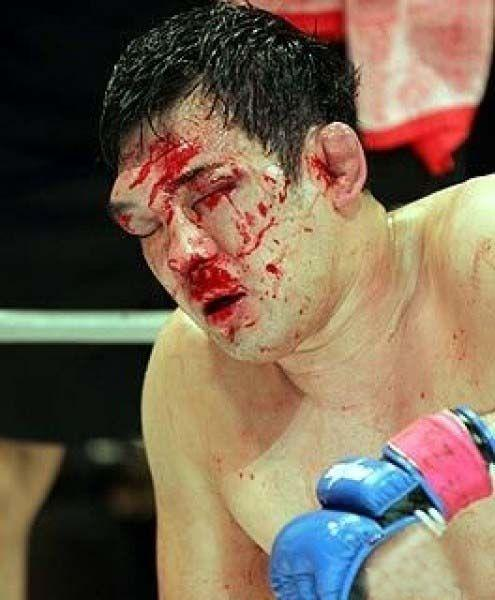Fire: (111, 97, 347, 362)
